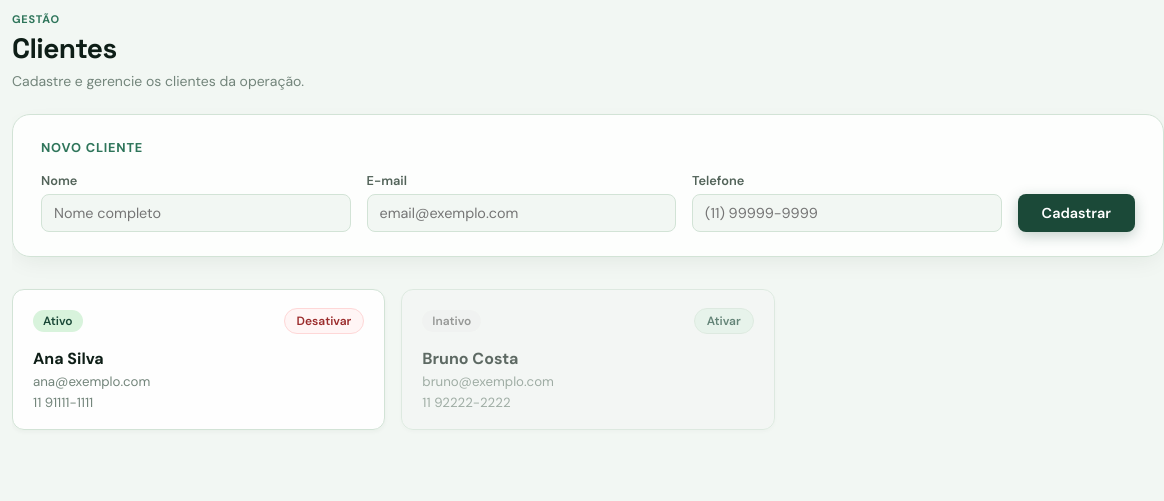
Test: CustomersPage › exibe erro da API ao falhar no cadastro
The width and height of the screenshot is (1164, 501).
Check: the text "Ana Silva" is shown, box [33,348,104,369]
Type "Teste" into the field labelled "Nome" at (196, 213), box [41,194,350,232]
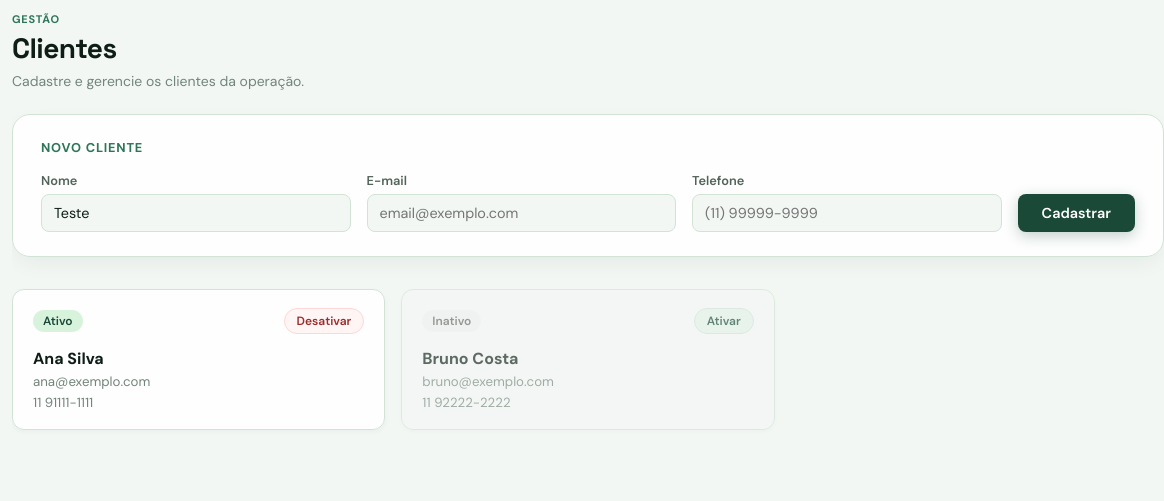
Type "ana@exemplo.com" into the field labelled "E-mail" at (521, 213), box [366,194,676,232]
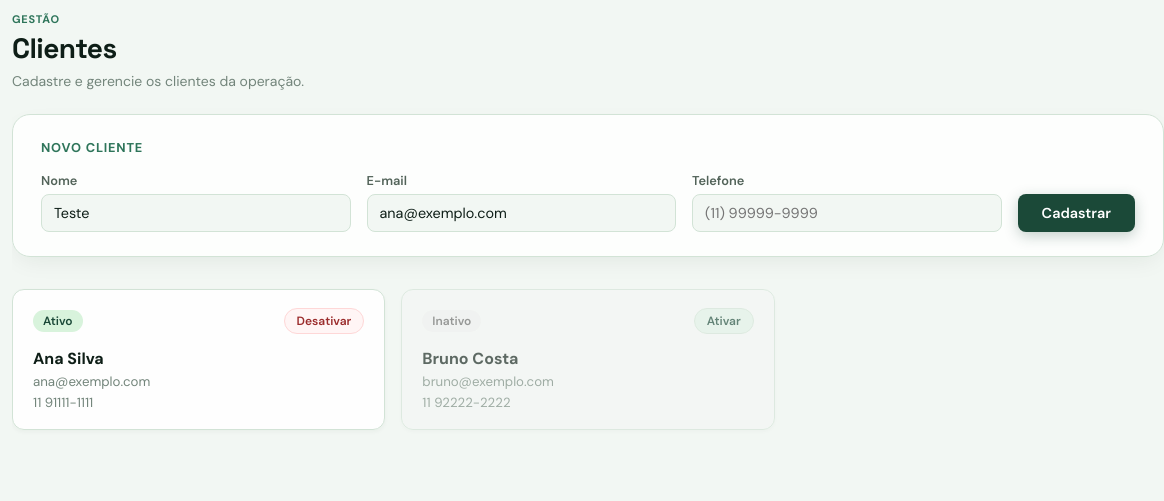
Type "11 91111-1111" into the field labelled "Telefone" at (847, 213), box [692,194,1002,232]
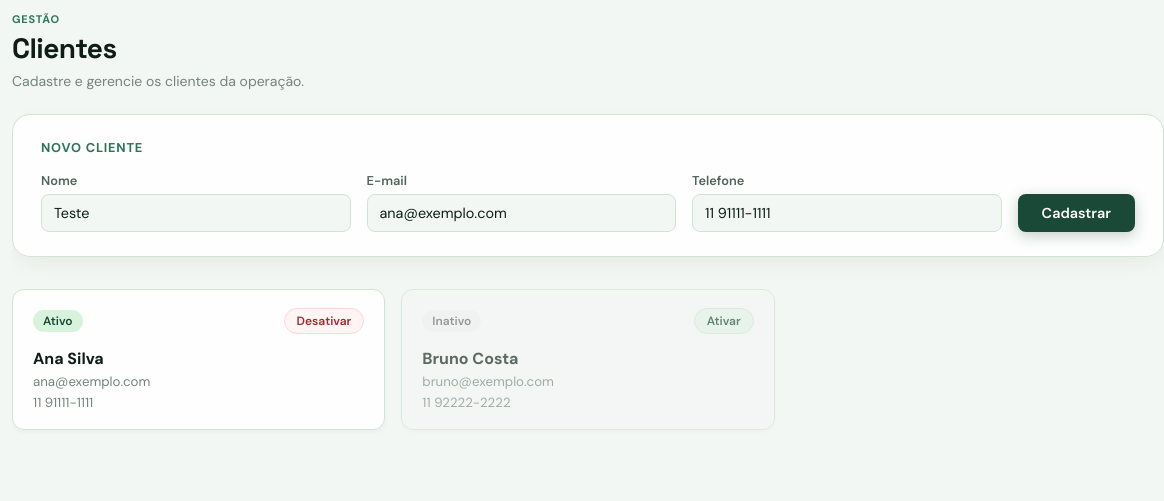
Click the button "Cadastrar" at (1076, 213), box [1018,194,1135,232]
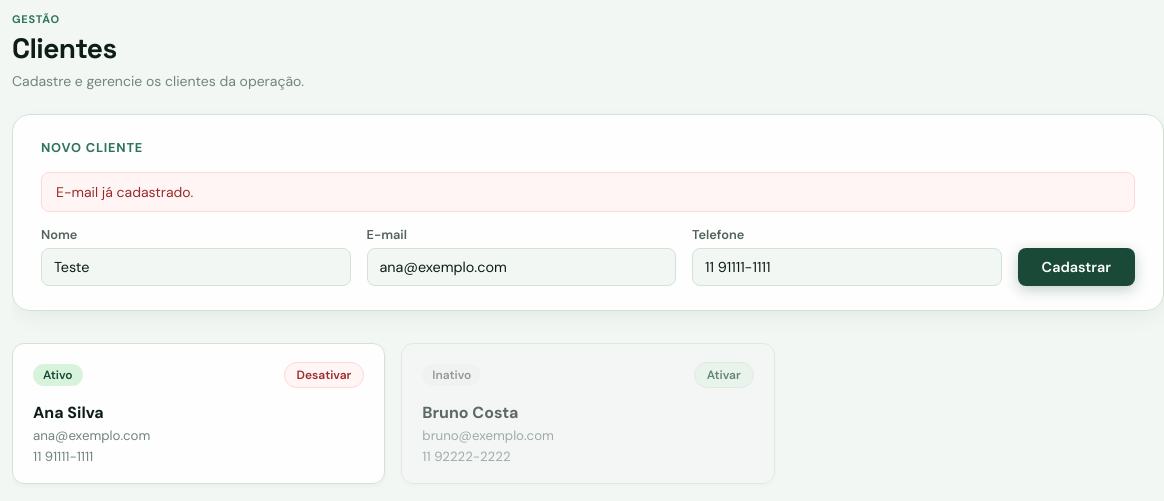
Check: the text "E-mail já cadastrado." is shown, box [41,172,1135,212]
